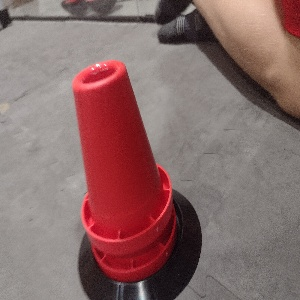Red_2: (65, 58, 179, 283)
